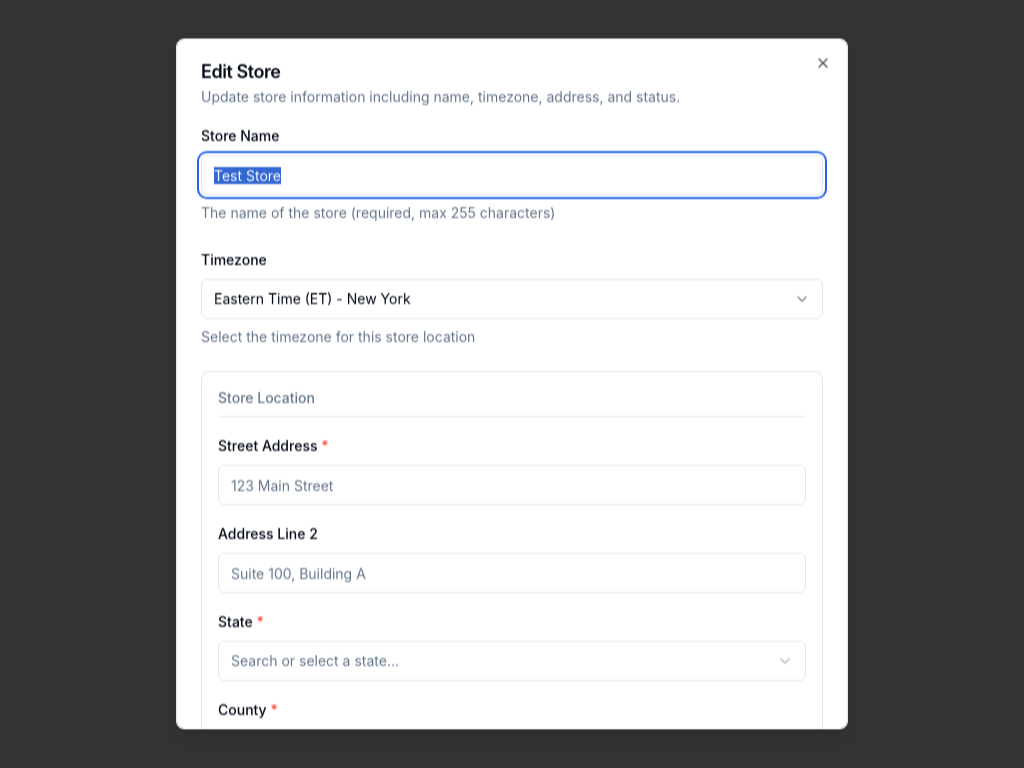
Test: 2.5-COMPONENT: EditStoreModal Component › Form Validation › [P0] 2.5-COMPONENT-004: should display validation error when name is empty
The image size is (1024, 768).
Note: User clears name and submits
Clear the field labelled "Store Name": (512, 175) [201,155,823,195]
(page scrolled)
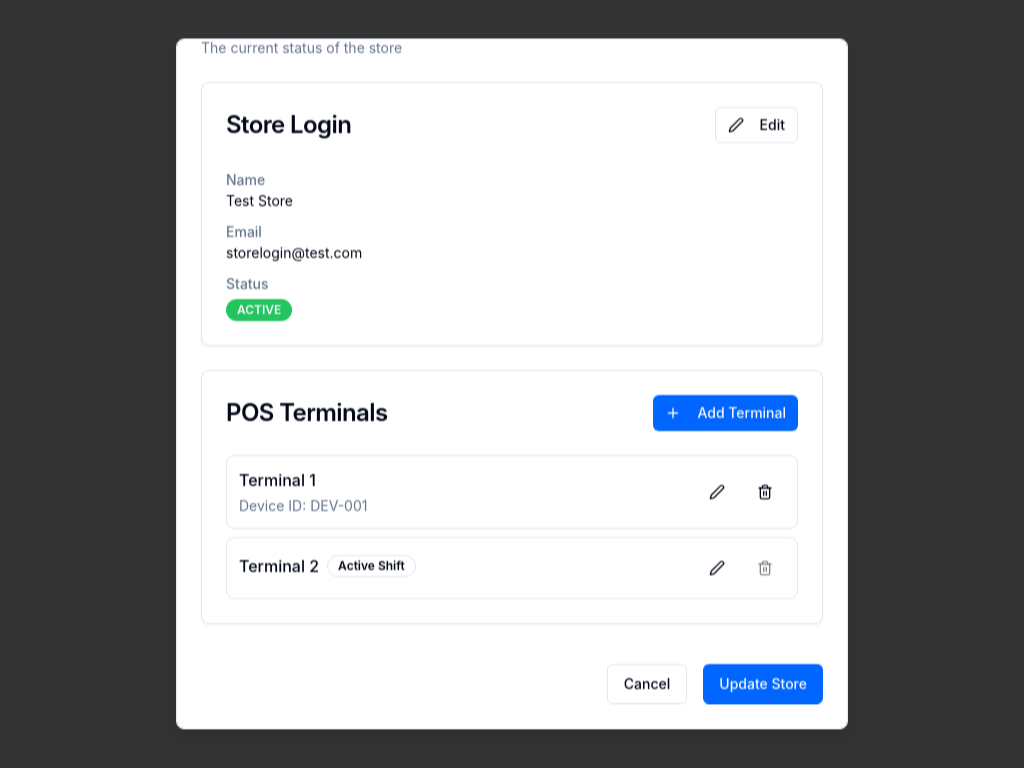
Click the button "Update Store": (763, 684) [703,664,823,704]
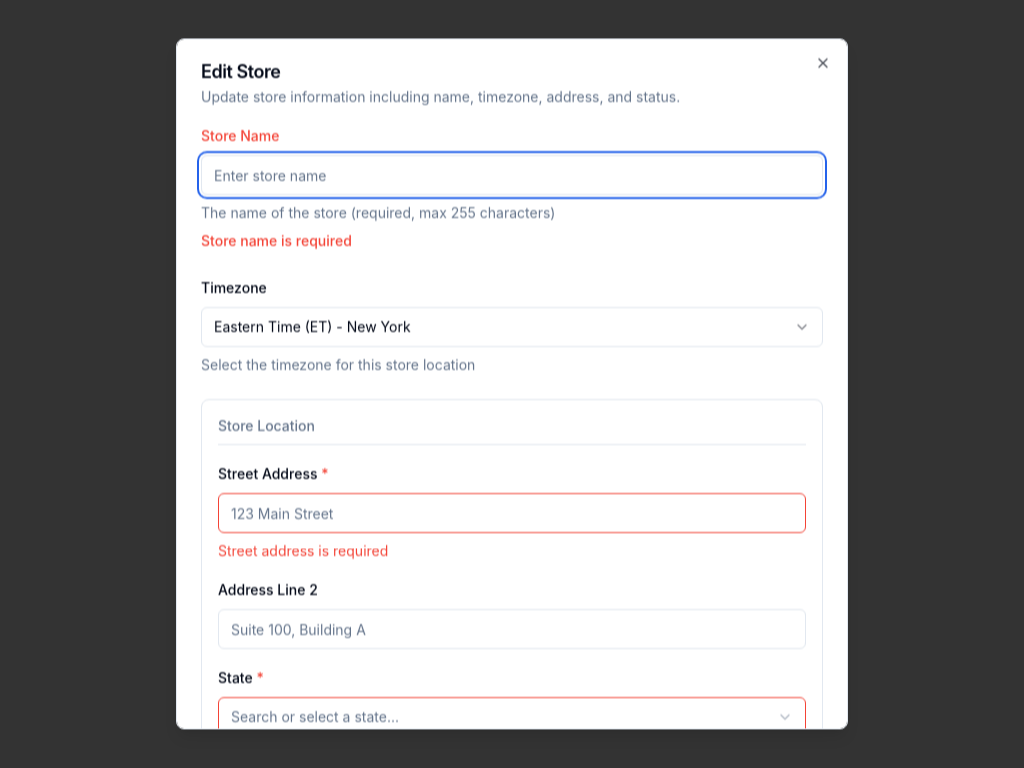
Now the text "Store name is required" is shown, box [201,232,352,249]
